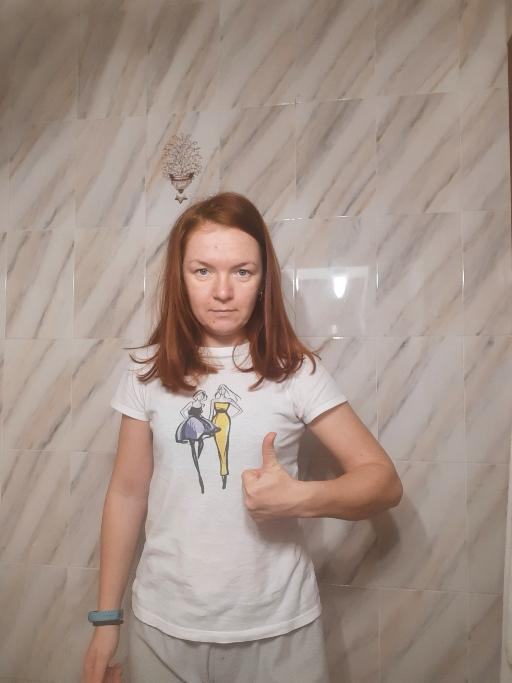like: (239, 429, 299, 528)
no_gesture: (75, 621, 125, 682)
